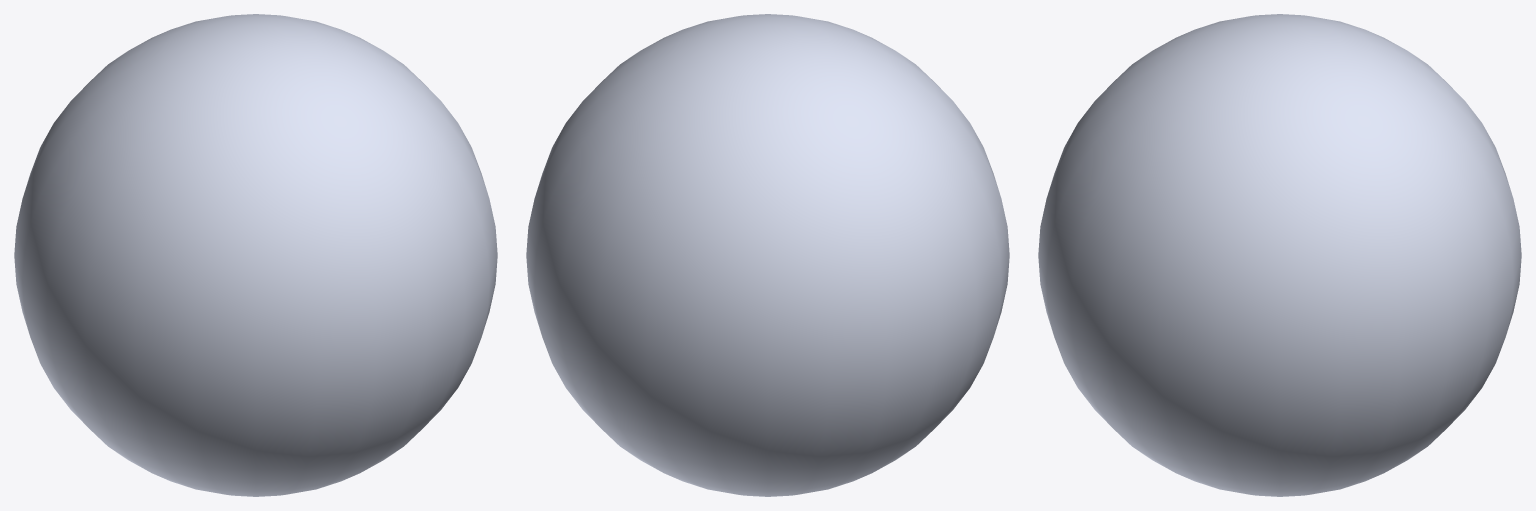
File: akvaryum (2).fbx
3 renders of one model, left to right at view 1: azimuth 30°, elevation 25°; view 2: azimuth 150°, elevation 25°; view 3: azimuth 270°, elevation 25°, orthographic.
Visible parts, largest first — view 1: Akvaryum; view 2: Akvaryum; view 3: Akvaryum.
Part boxes in pixels (x1,y1,x2,y2): Akvaryum: (14,14,497,496); Akvaryum: (526,14,1009,496); Akvaryum: (1038,14,1521,496).
Bounding box in the file's own units: 200 × 200 × 200.
